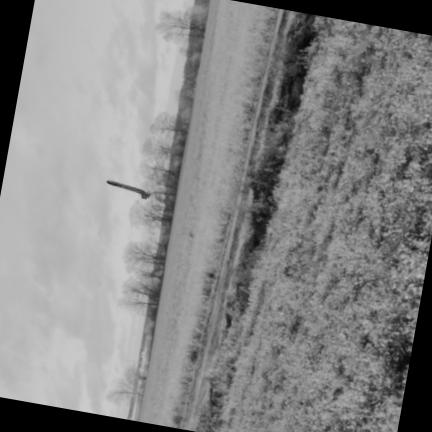Shahed: (107, 180, 150, 197)
